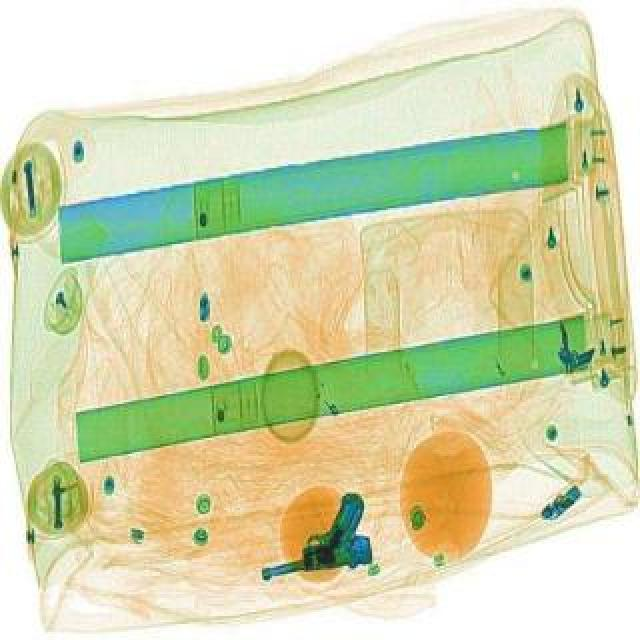gun: (246, 490, 376, 580)
